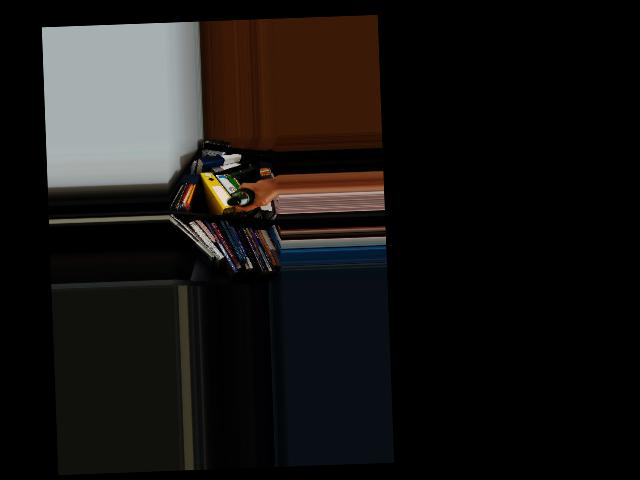beer: (227, 187, 255, 206)
